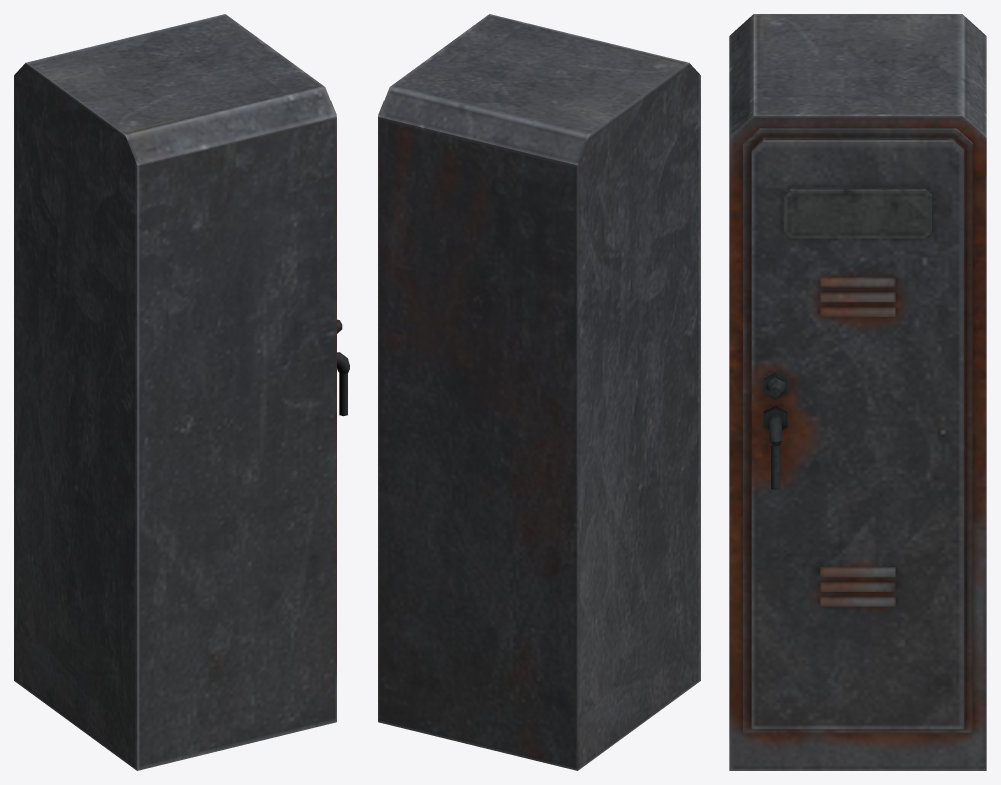
File: LockerStatic.FBX
3 views of the same model, side by side, from view 1: azimuth 30°, elevation 25°; view 2: azimuth 150°, elevation 25°; view 3: azimuth 270°, elevation 25° (orthographic). The views are drawn at different scales.
Parts seen in each view (by area): view 1: LockerStatic; view 2: LockerStatic; view 3: LockerStatic.
Part boxes in pixels (left/top/right/bottom): LockerStatic: left=14, top=14, right=349, bottom=770; LockerStatic: left=378, top=14, right=700, bottom=770; LockerStatic: left=729, top=14, right=986, bottom=770.
Size of the model in its own units: 27.5 by 70.09 by 24.97.
